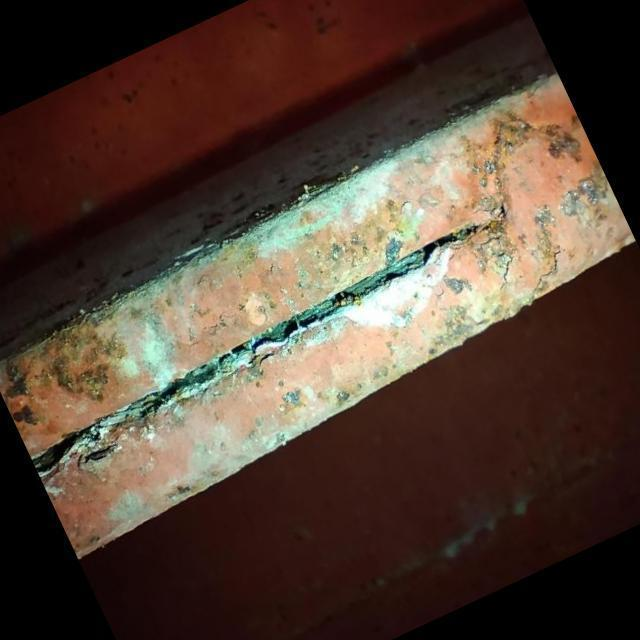defect: (30, 214, 489, 483), (532, 243, 562, 299), (498, 244, 520, 294)
